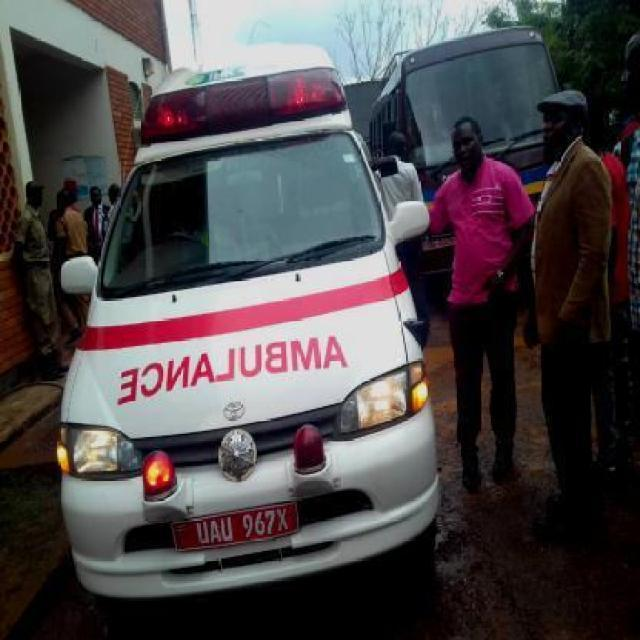emergency: (54, 63, 442, 602)
